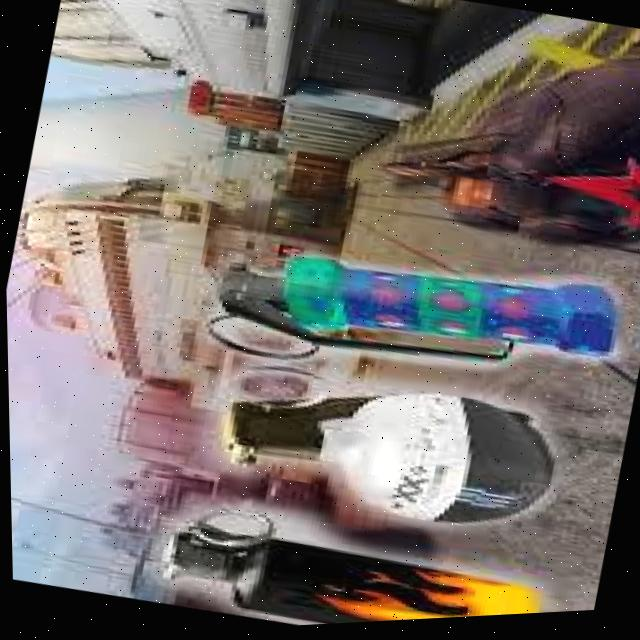grenade: (184, 191, 628, 420), (181, 331, 569, 560), (149, 502, 546, 634), (362, 106, 640, 272)
